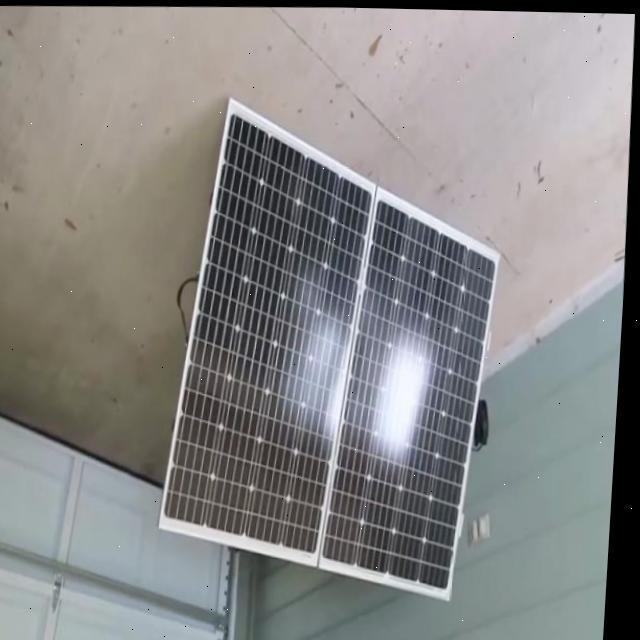Normal Solar Panel: (155, 90, 516, 602)
